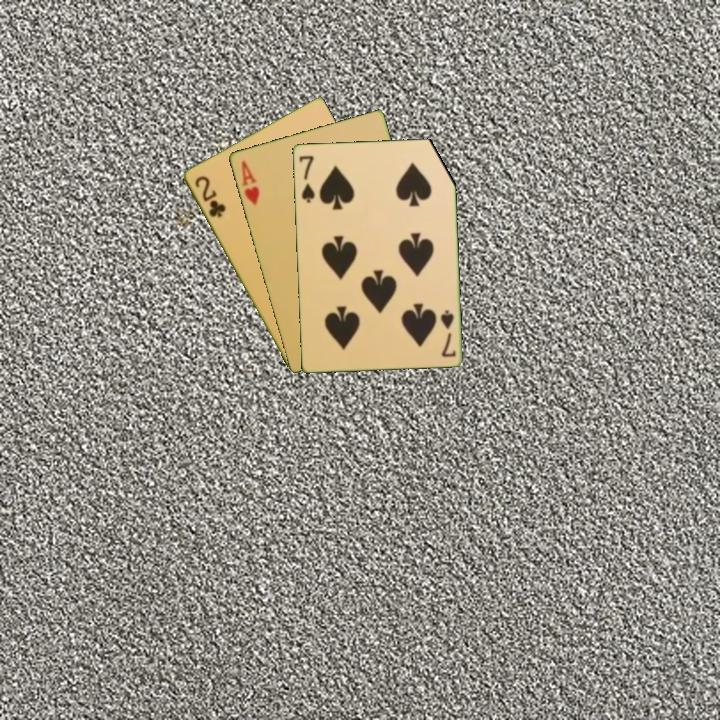2c: (191, 172, 228, 220)
7s: (437, 306, 459, 360), (295, 152, 317, 205)
Ah: (237, 157, 262, 208)
